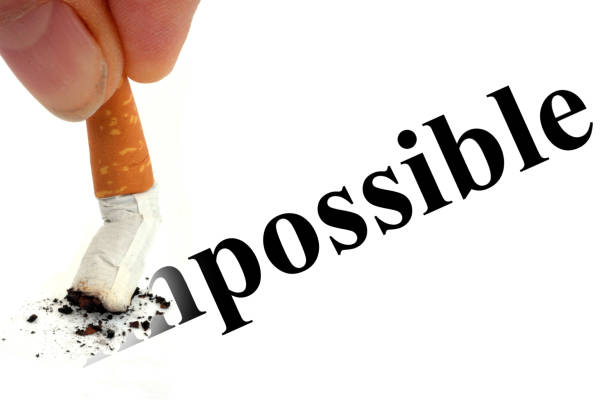cigarette: (66, 74, 163, 316)
